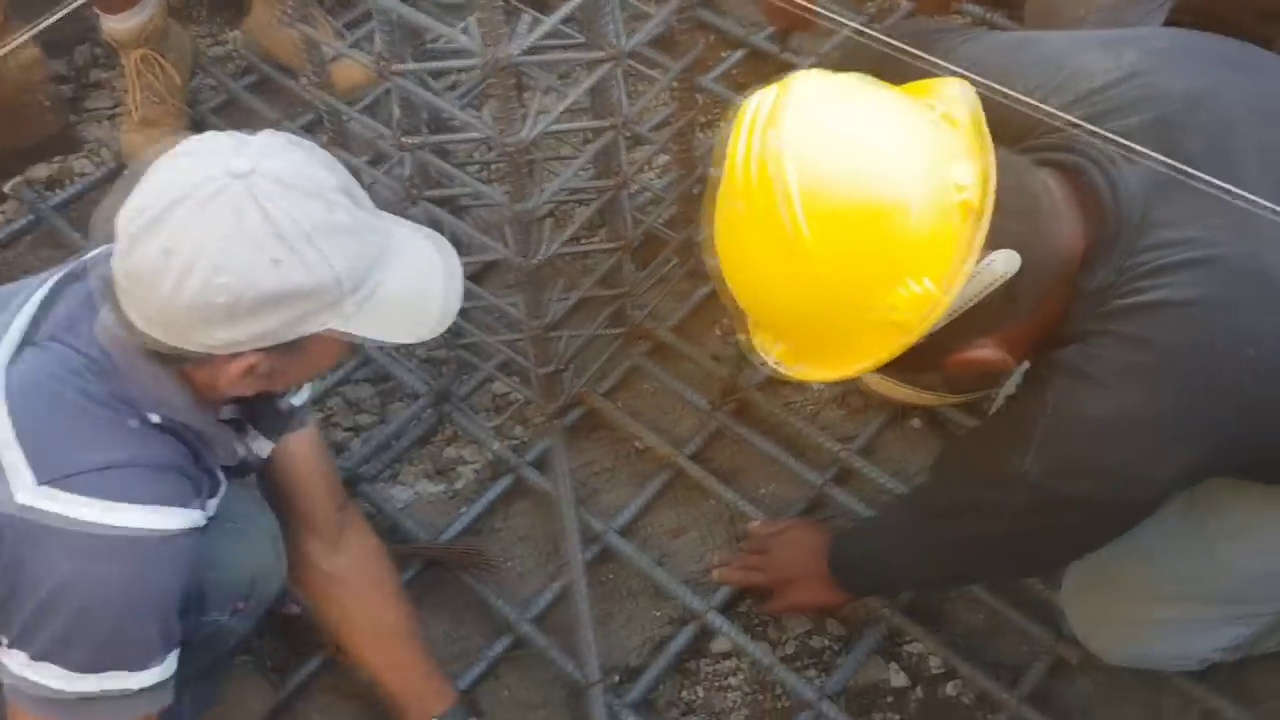helmet: (701, 50, 999, 387)
helmet-off: (88, 130, 431, 434)
helmet-on: (700, 33, 1132, 423)
person: (697, 26, 1280, 676), (0, 136, 512, 716)
